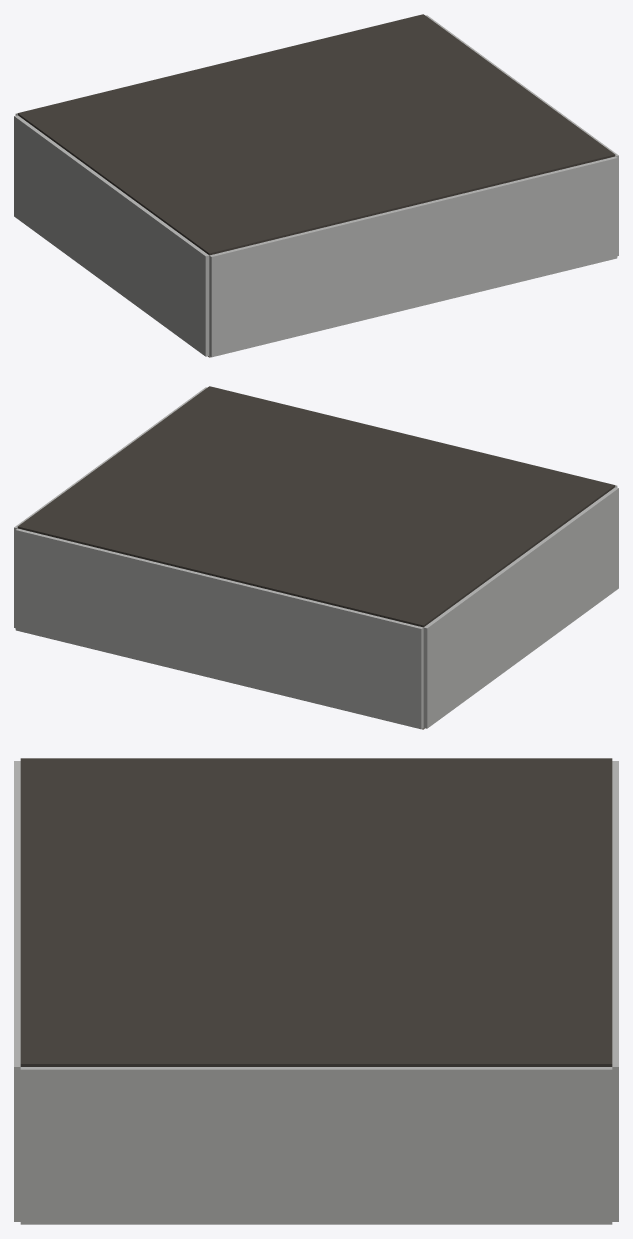
Rendered from room.glb.
3 views of the same model, one above another, from view 1: azimuth 30°, elevation 25°; view 2: azimuth 150°, elevation 25°; view 3: azimuth 270°, elevation 25° (orthographic). The views are drawn at different scales.
Visible parts, largest first — view 1: ceiling, wall_front, wall_left, wall_right; view 2: ceiling, wall_back, wall_left, wall_right; view 3: ceiling, wall_right, wall_back, wall_front.
Part boxes in pixels (<box>): ceiling: <box>17,14,615,255</box>; wall_front: <box>209,156,617,357</box>; wall_left: <box>14,115,209,356</box>; wall_right: <box>426,15,618,256</box>; ceiling: <box>17,386,615,627</box>; wall_back: <box>15,528,423,729</box>; wall_left: <box>423,487,618,728</box>; wall_right: <box>14,387,206,628</box>; ceiling: <box>20,758,612,1066</box>; wall_right: <box>20,1067,612,1224</box>; wall_back: <box>612,761,618,1221</box>; wall_front: <box>14,761,20,1221</box>.
Bounding box in the file's own units: 22.4 × 5.4 × 18.4.
12 materials, 11 textured.
